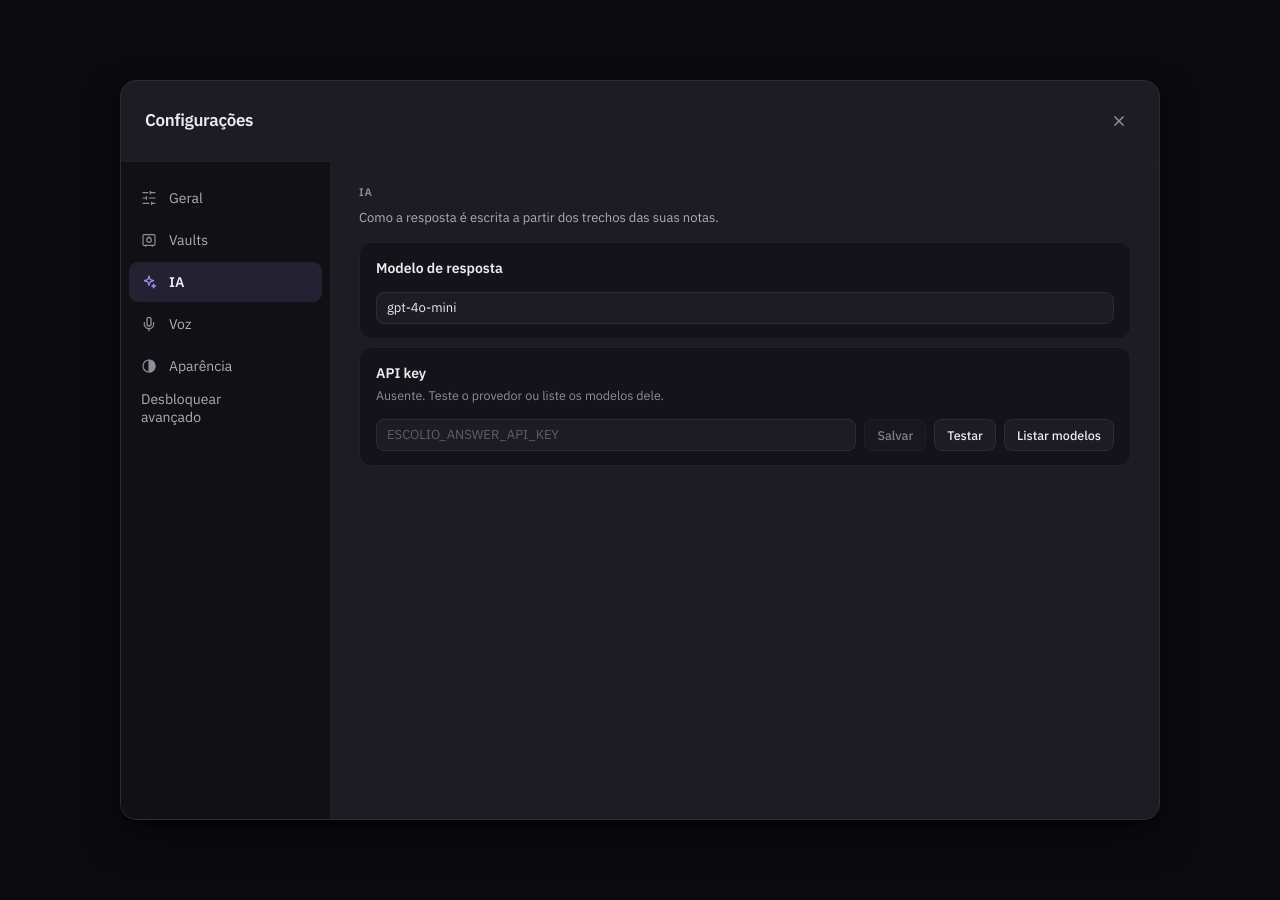
Scenario: SettingsModal: chave de API, remoção e rótulos do catálogo › salvar chave: envia o valor digitado ao backend e avisa que foi salva
In the password field named "API key": (616,435) [376,419,856,451], type "sk-teste-123"
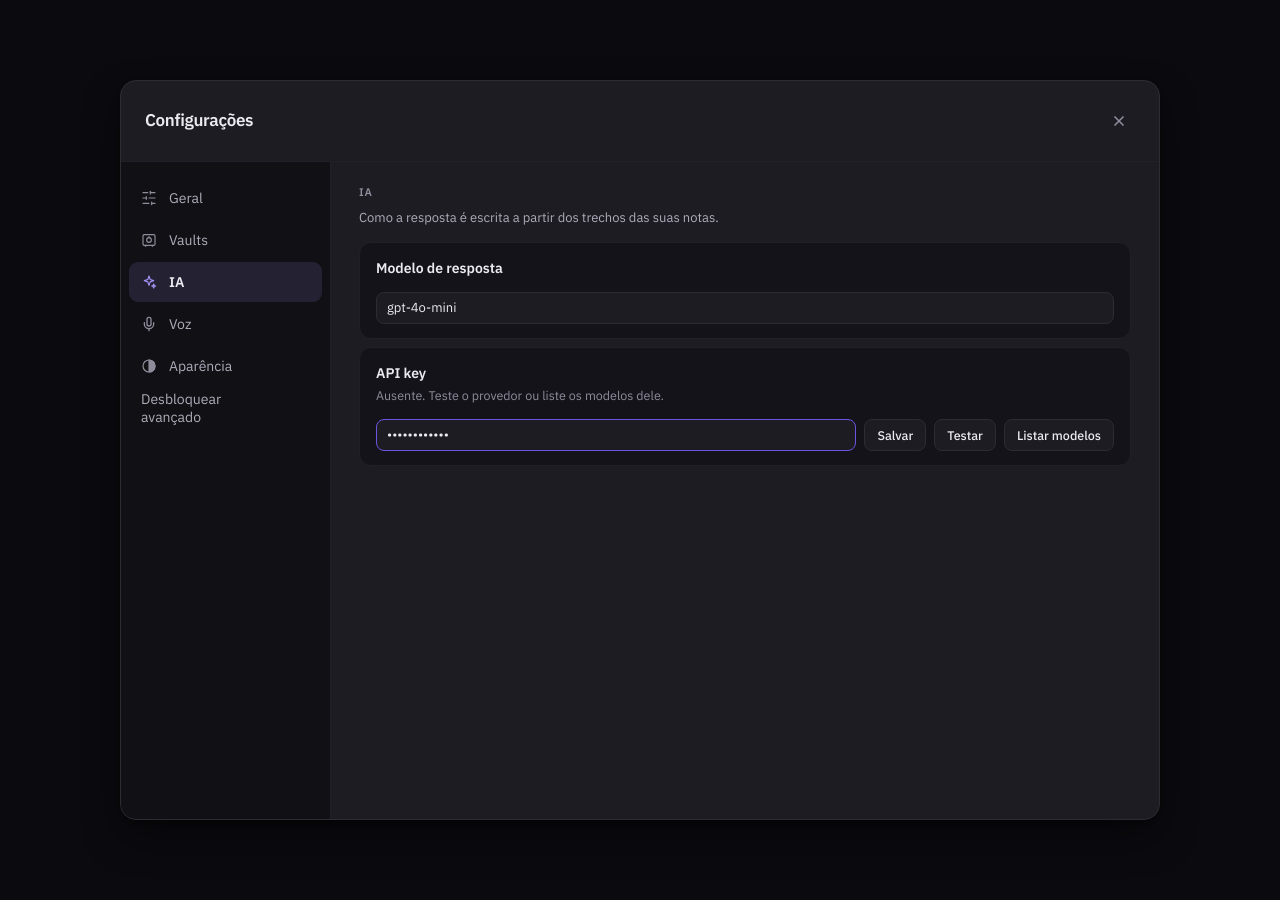
Click the button with aria-label "Salvar API key": (895,435) [864,419,926,451]
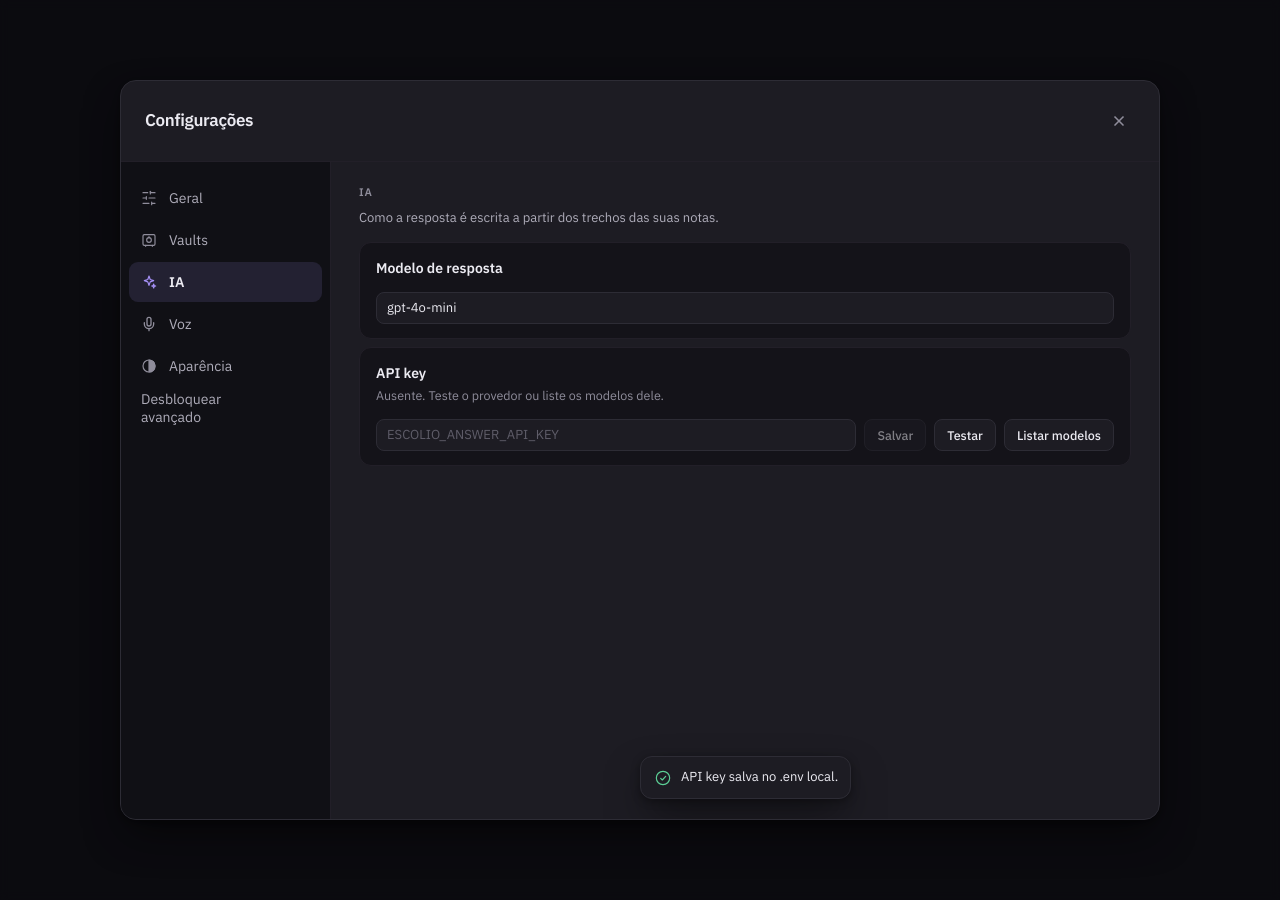
Now the text "API key salva no .env local." is shown, box [681,767,838,788]
Now the password field named "API key" is empty, box [376,419,856,451]
